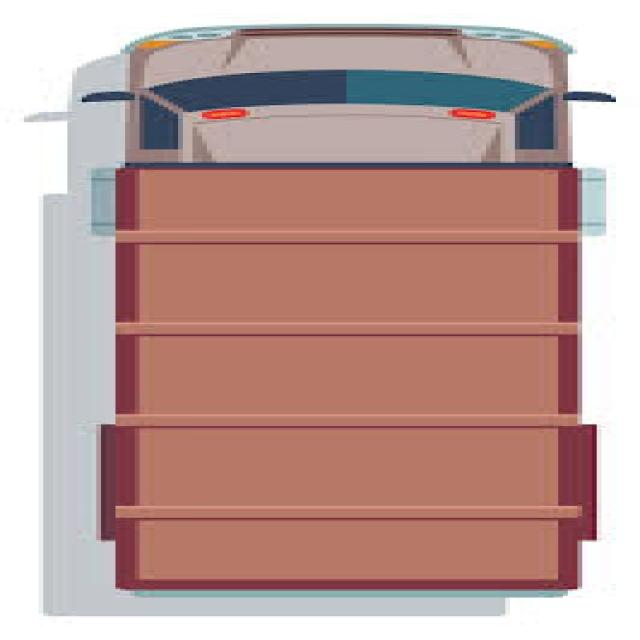truck: (103, 18, 600, 599)
